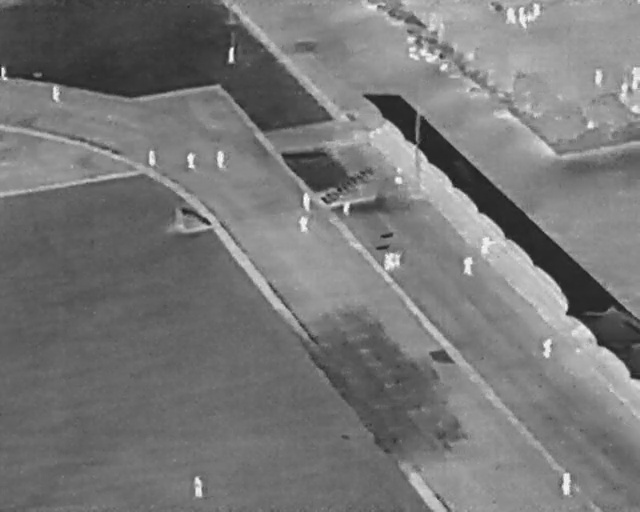DontCare: (401, 33, 454, 74), (502, 1, 545, 31), (382, 251, 403, 272)
Person: (560, 472, 573, 496), (541, 337, 553, 359), (593, 67, 605, 88), (462, 256, 474, 277), (393, 165, 403, 188), (194, 475, 204, 498), (631, 67, 640, 92), (227, 44, 237, 66), (298, 216, 309, 234), (186, 151, 197, 169), (52, 83, 62, 102), (216, 151, 226, 169), (148, 148, 157, 167), (342, 199, 351, 217), (303, 192, 310, 212), (0, 65, 8, 81)
